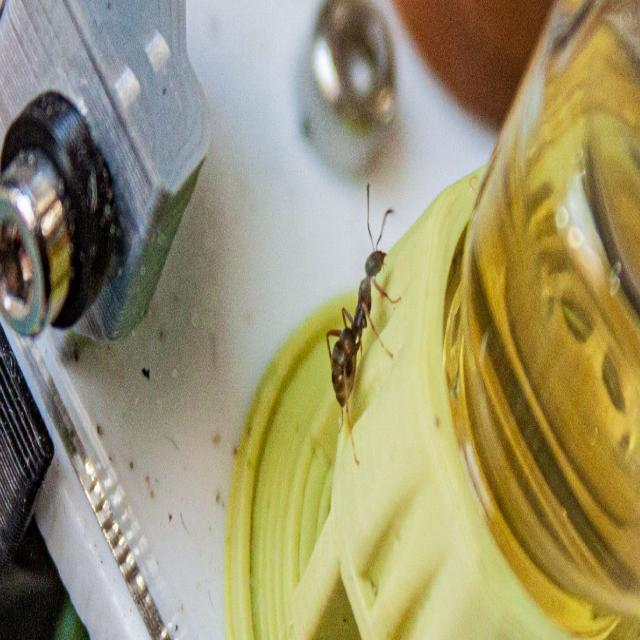Minor: (327, 181, 402, 463)
